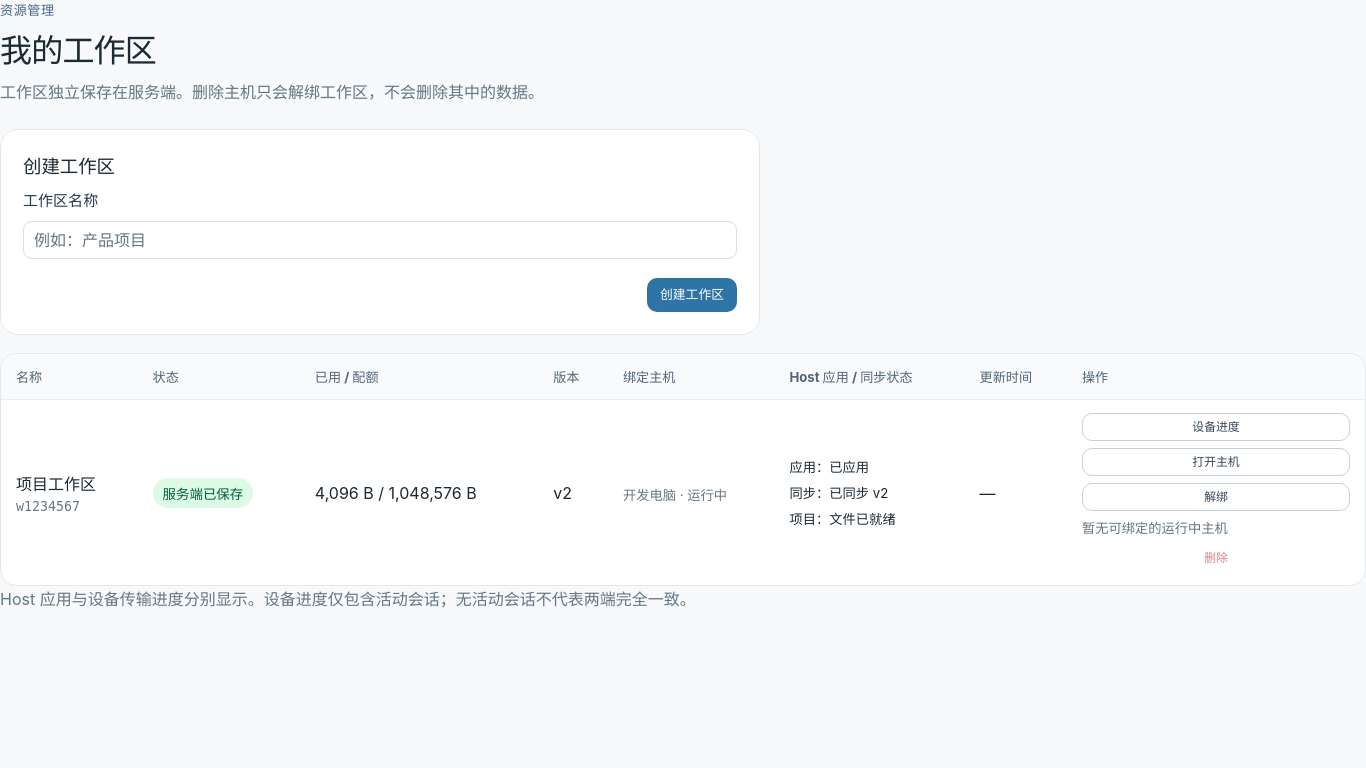
Test: Workspaces › refreshes the binding and closes a stale unbind confirmation after a version conflict
What coordinates should you click on to do the following:
click the button with aria-label "解绑工作区 项目工作区 与主机 开发电脑"
I would click on:
 (1216, 497)
Its box is [1082,483,1350,511].
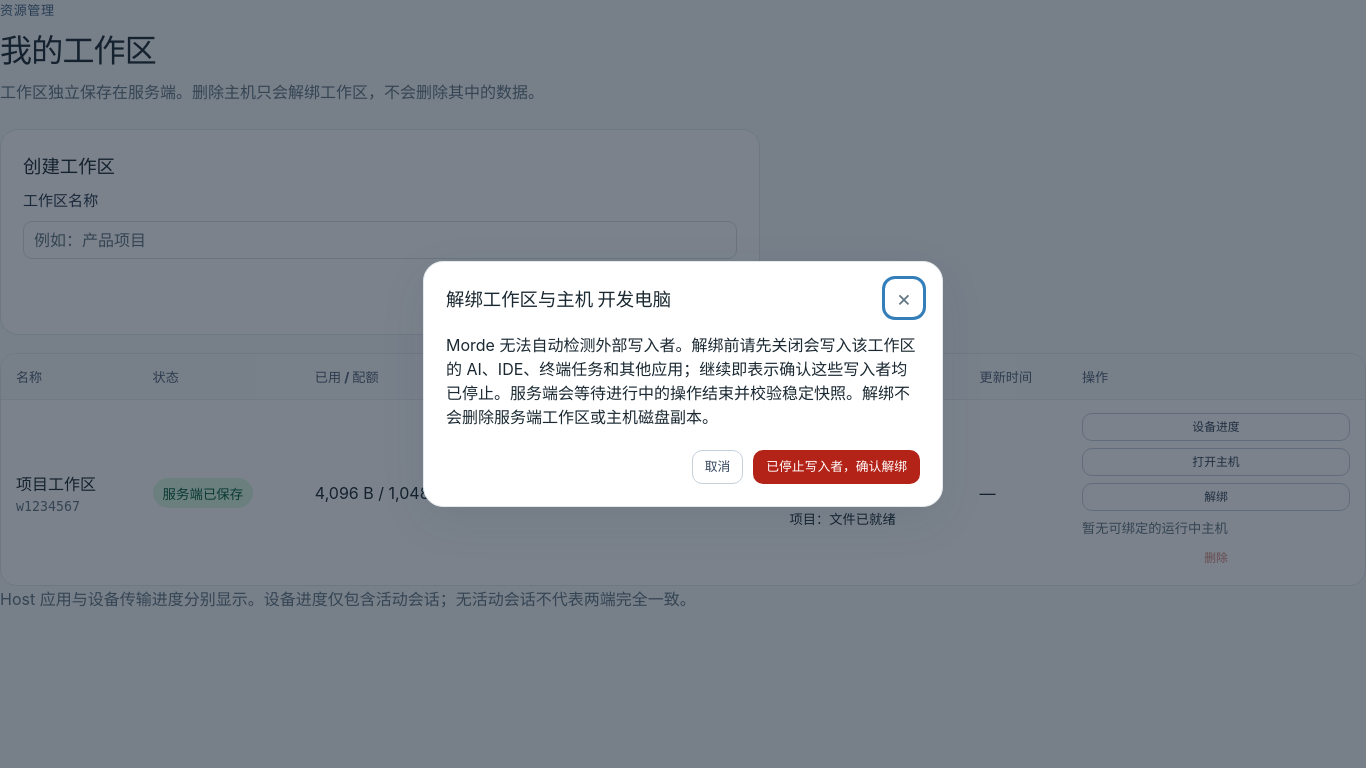
What coordinates should you click on to do the following:
click the button "已停止写入者，确认解绑"
I would click on:
 (837, 467)
Its box is [753,450,920,484].
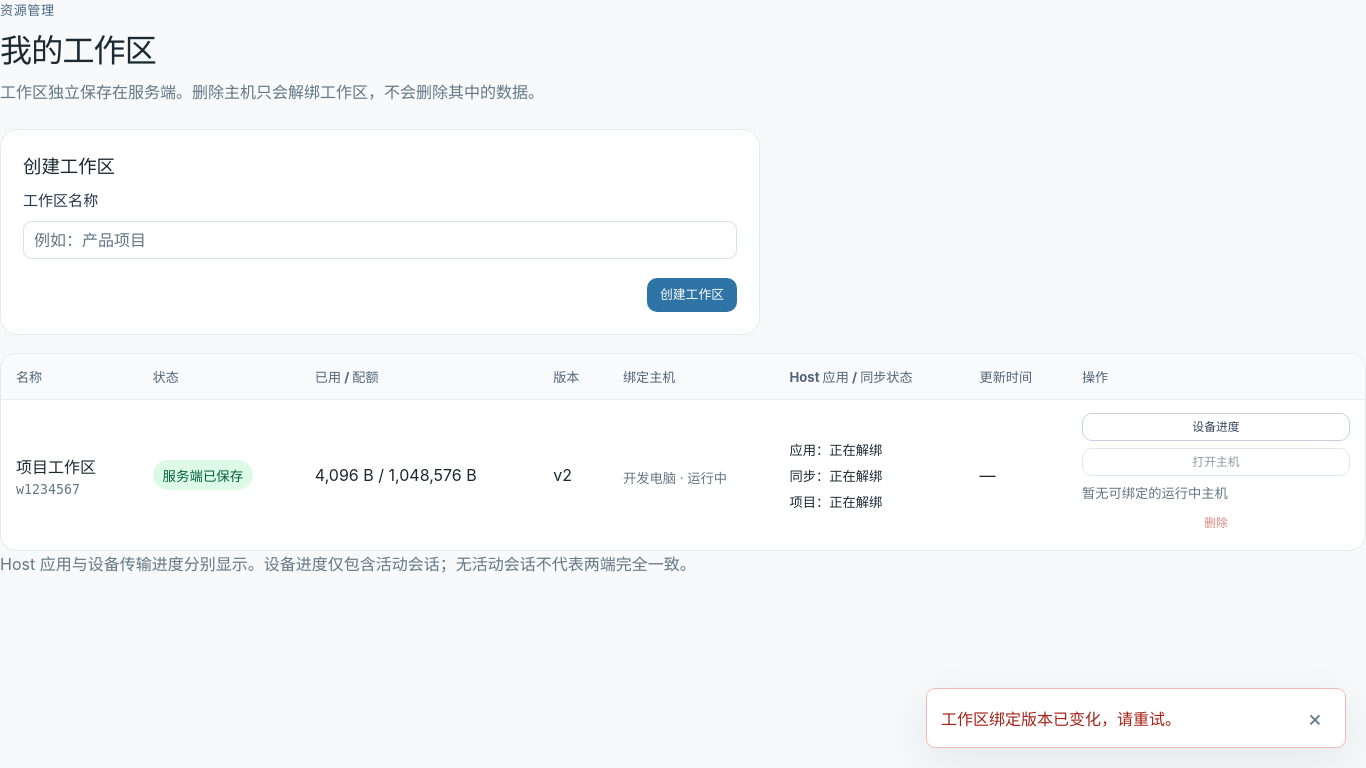
Check: the text "应用：正在解绑" is shown, box [790,442,882,458]
Check: the text "工作区绑定版本已变化，请重试。" is shown, box [941,709,1181,729]
Check: the heading "解绑工作区与主机 开发电脑" is gone
